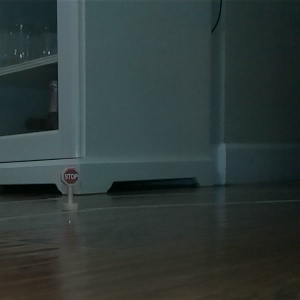stop sign: (58, 164, 82, 210)
